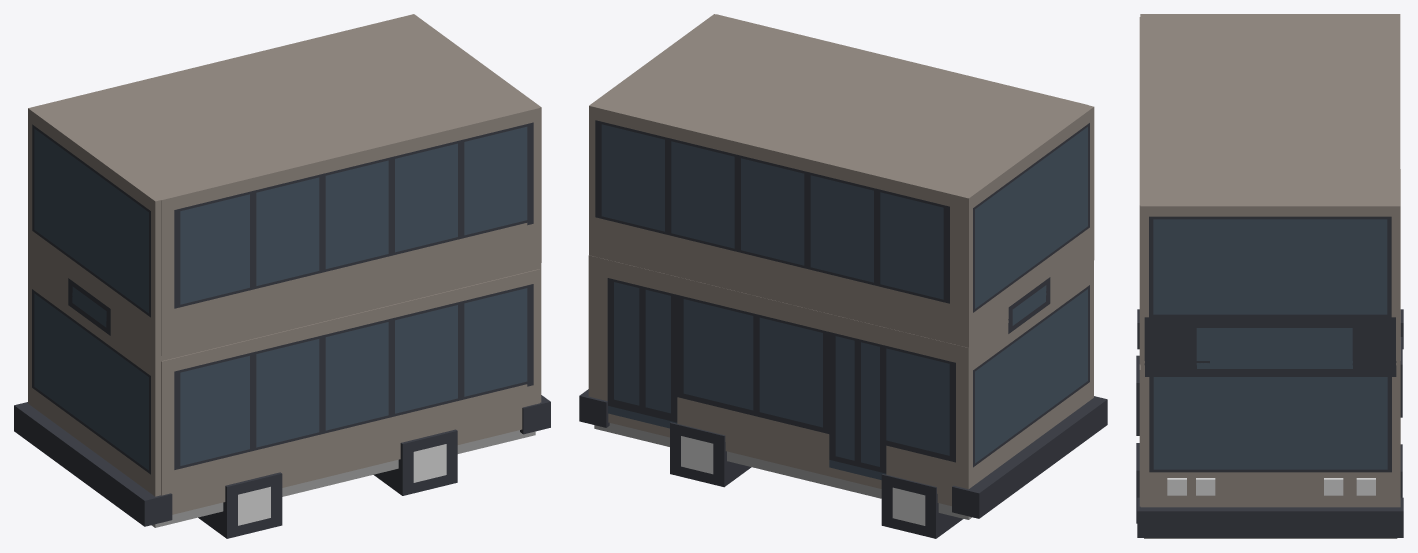
The model's file is busKMB.fbx.
The picture shows the model from 3 angles, left to right: view 1: azimuth 30°, elevation 25°; view 2: azimuth 150°, elevation 25°; view 3: azimuth 270°, elevation 25°; orthographic projection. The views are drawn at different scales.
Parts seen in each view (by area): view 1: bus; view 2: bus; view 3: bus.
Part boxes in pixels (<box>): bus: <box>14,14,550,538</box>; bus: <box>579,14,1107,538</box>; bus: <box>1136,14,1403,538</box>.
Bounding box in the file's own units: 6.63 × 5.5 × 3.71.
